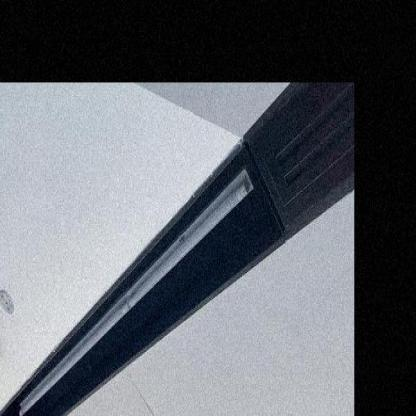light_off: (14, 150, 258, 415)
